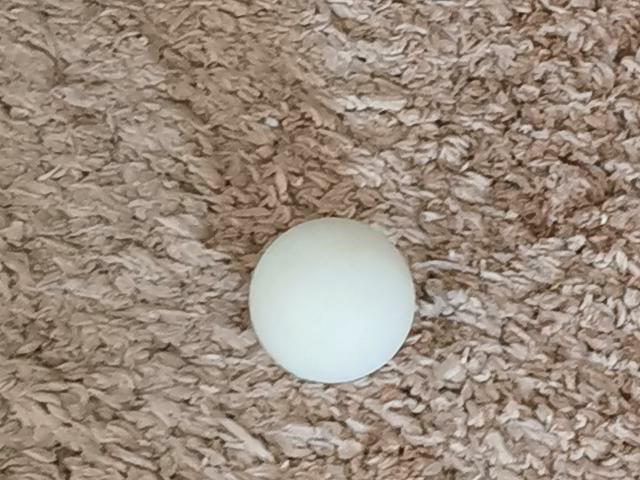ball: (249, 216, 414, 386)
